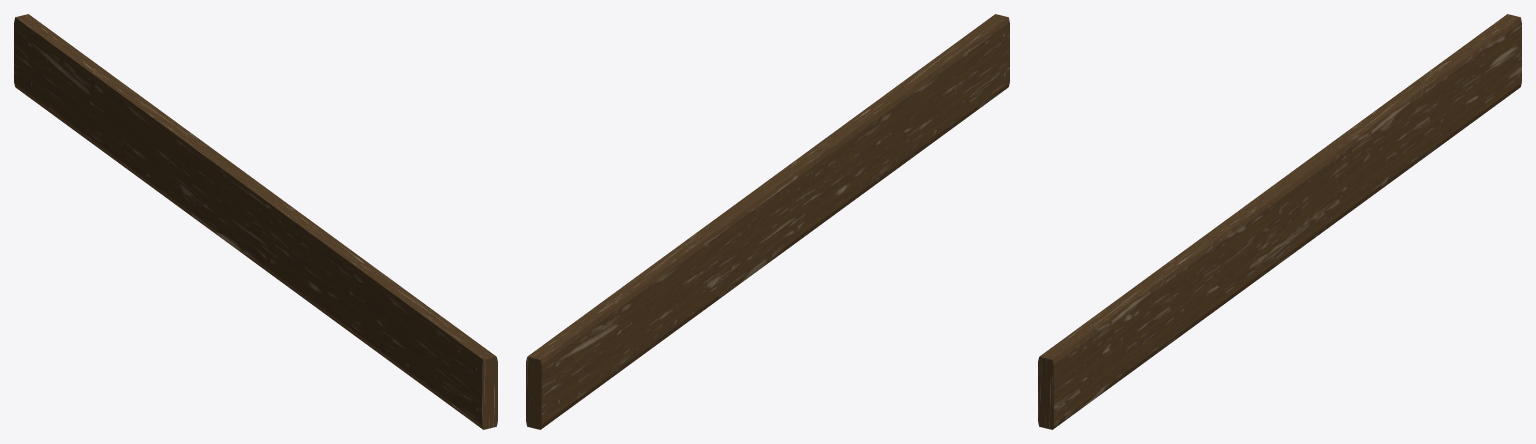
File: Barricade Plank.fbx
3 views of the same model, side by side, from view 1: azimuth 30°, elevation 25°; view 2: azimuth 150°, elevation 25°; view 3: azimuth 330°, elevation 25° (orthographic).
Visible parts, largest first — view 1: Cube.253; view 2: Cube.253; view 3: Cube.253.
Boxes of the visible parts, x1,y1,x2,y2 form: Cube.253: (14,14,497,429); Cube.253: (526,14,1009,429); Cube.253: (1038,14,1521,429).
Bounding box in the file's own units: 5.28 × 22.71 × 275.
